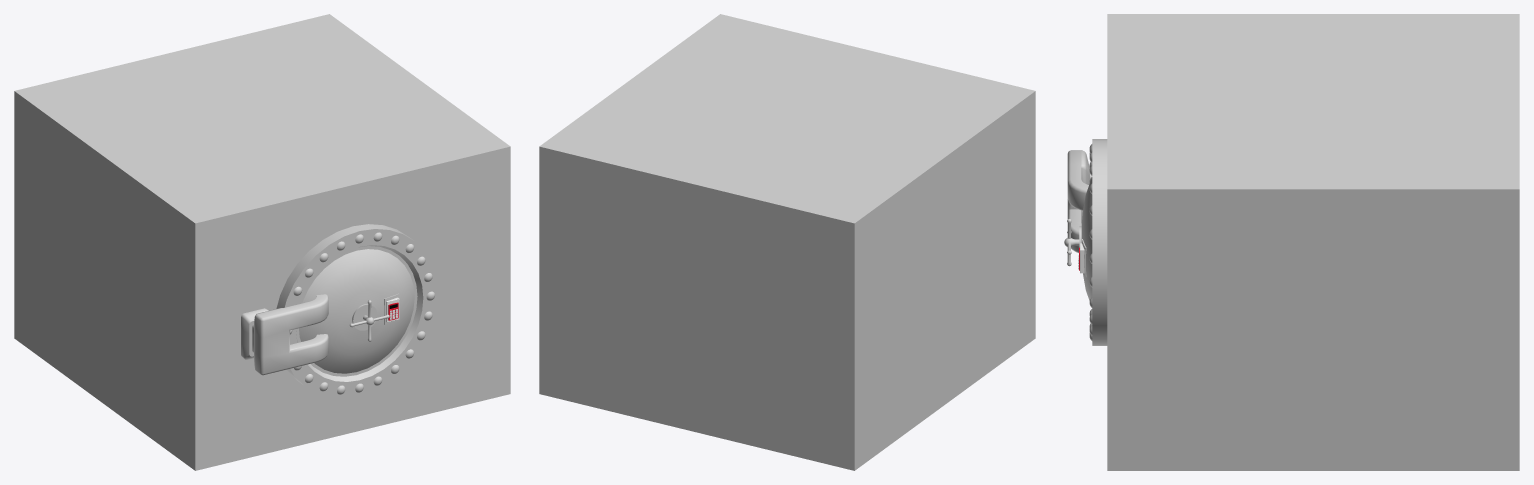
The model's file is Vault.fbx.
3 views of the same model, side by side, from view 1: azimuth 30°, elevation 25°; view 2: azimuth 150°, elevation 25°; view 3: azimuth 270°, elevation 25° (orthographic). The views are drawn at different scales.
Parts seen in each view (by area): view 1: Wall, Door, Hinge; view 2: Wall; view 3: Wall, Door, Hinge.
Part boxes in pixels (<box>): Wall: <box>14,14,510,470</box>; Door: <box>276,224,438,398</box>; Hinge: <box>241,294,328,375</box>; Wall: <box>539,14,1035,470</box>; Wall: <box>1107,14,1519,470</box>; Door: <box>1079,139,1107,345</box>; Hinge: <box>1067,150,1092,252</box>.
Size of what is drawn, in the model's own units: 400 by 300 by 439.
